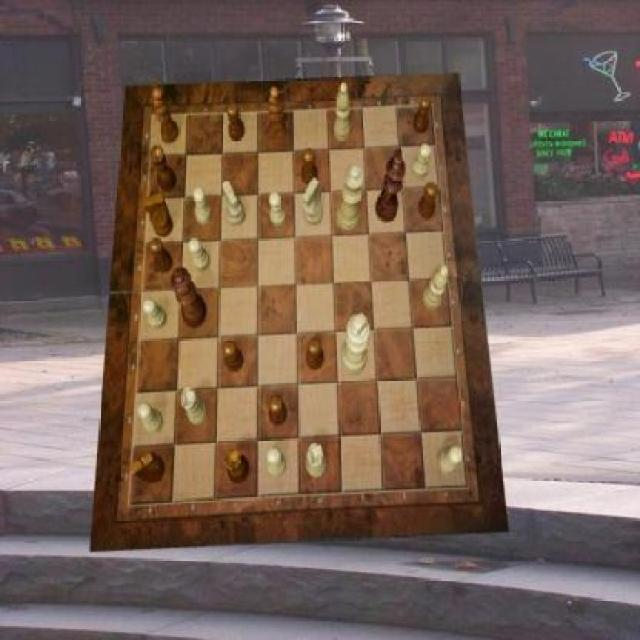bishop: (154, 88, 180, 144), (268, 86, 287, 142)
black-bishop: (376, 149, 406, 223)
black-king: (143, 192, 173, 238), (131, 450, 166, 484)
black-knight: (149, 239, 173, 273), (418, 182, 438, 219), (223, 340, 244, 372), (228, 103, 245, 142), (414, 95, 431, 134), (270, 395, 288, 428), (306, 338, 324, 371), (302, 148, 318, 185)
black-pawn: (171, 268, 207, 329)
black-queen: (151, 146, 177, 192), (226, 449, 251, 484)
black-rook: (422, 264, 448, 310), (334, 83, 351, 142)
white-bishop: (342, 312, 371, 375)
white-king: (223, 181, 246, 227), (303, 179, 323, 226)
white-knight: (139, 401, 163, 434), (189, 238, 212, 272), (192, 186, 212, 224), (143, 298, 167, 329), (411, 145, 431, 179), (437, 446, 461, 474), (269, 192, 287, 228), (268, 448, 288, 478)
white-pawn: (337, 166, 365, 232)
white-queen: (180, 386, 208, 424), (306, 443, 327, 478)
